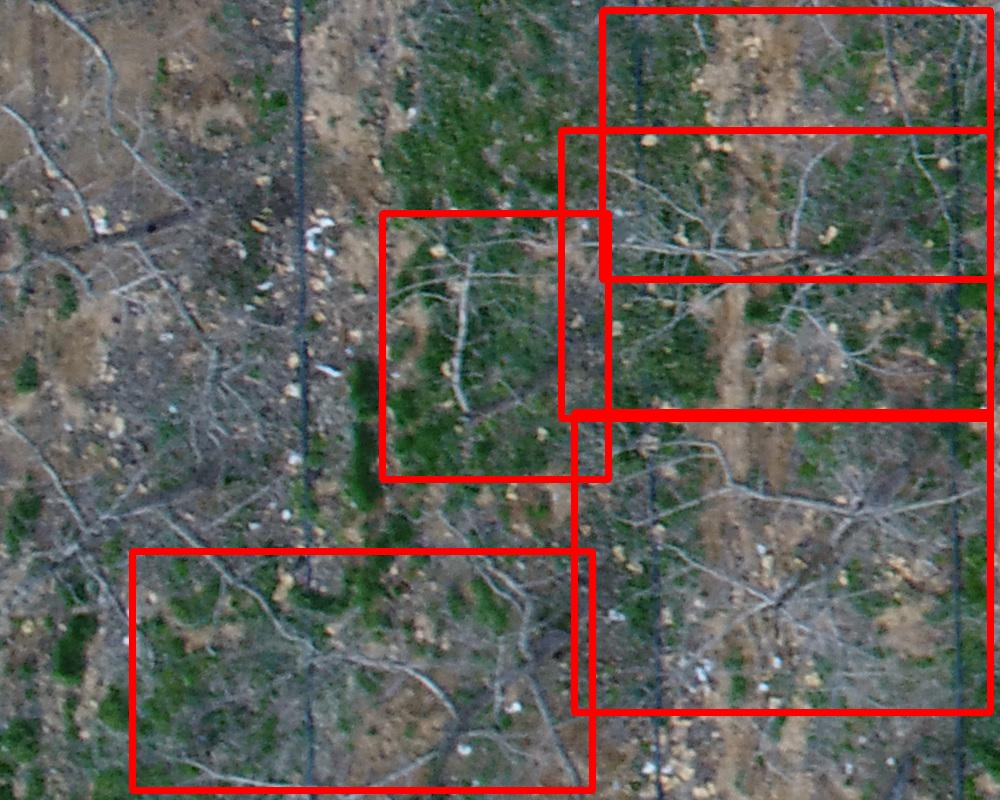apple: (574, 412, 990, 712), (561, 130, 990, 418), (132, 551, 592, 790), (602, 10, 990, 279), (382, 213, 608, 479)
